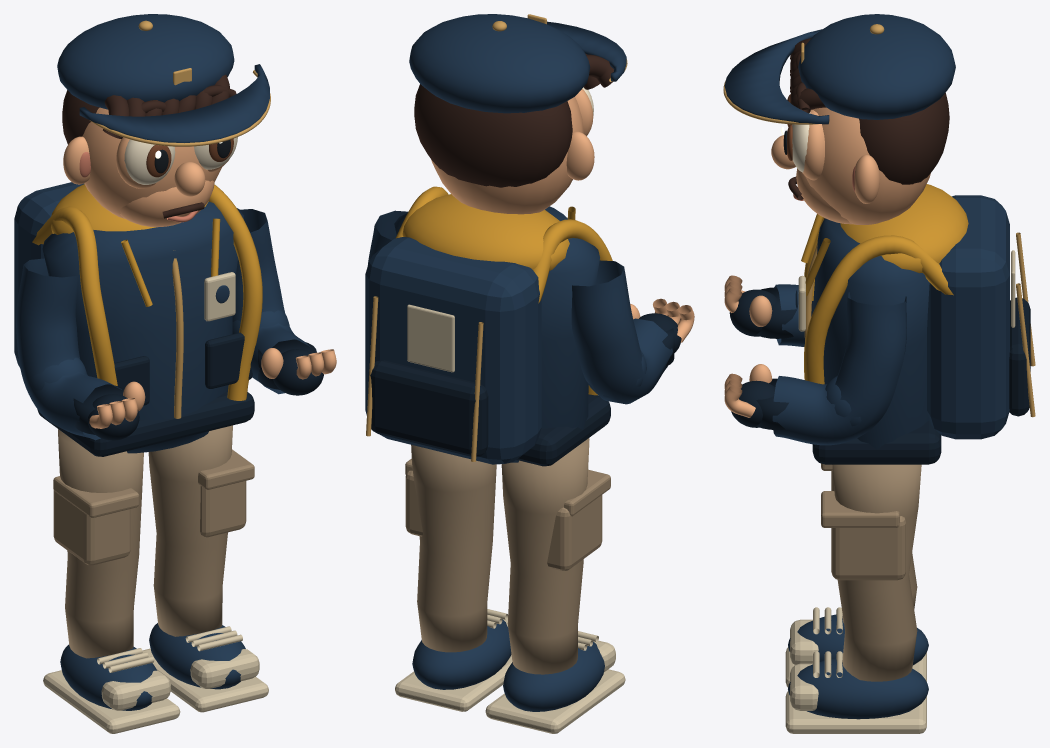
File: nico.glb
3 views of the same model, side by side, from view 1: azimuth 30°, elevation 25°; view 2: azimuth 150°, elevation 25°; view 3: azimuth 270°, elevation 25° (orthographic). The views are drawn at different scales.
Visible parts, largest first — view 1: fitted jacket, cargo trouser.001, cap dome, cargo trouser, jacket sleeve, curved cap visor, hem cuff, backpack strap, face, cargo pocket, backpack strap.001, jacket sleeve.001 (+29 smaller); view 2: backpack, cargo trouser.001, cap dome, cargo trouser, hair back, jacket sleeve, backpack pocket, fitted jacket, hood lining, face, shoe, shoe.001 (+15 smaller); view 3: backpack, cap dome, cargo trouser.001, jacket sleeve.001, fitted jacket, face, hair back, shoe.001, hood lining, backpack strap.001, curved cap visor, cargo pocket.001 (+21 smaller).
Part boxes in pixels (box(x1,y1,x2,y2)): fitted jacket: box(42, 201, 243, 453); cargo trouser.001: box(148, 425, 232, 636); cap dome: box(57, 14, 234, 109); cargo trouser: box(58, 429, 143, 658); jacket sleeve: box(16, 258, 121, 440); curved cap visor: box(79, 64, 269, 142); hem cuff: box(37, 389, 254, 456); backpack strap: box(32, 206, 117, 385); face: box(82, 107, 221, 218); cargo pocket: box(53, 490, 130, 565); backpack strap.001: box(208, 184, 262, 400); jacket sleeve.001: box(232, 209, 310, 394); backpack: box(365, 237, 541, 464); cargo trouser.001: box(411, 444, 496, 652); cap dome: box(409, 14, 590, 113); cargo trouser: box(501, 438, 589, 674); hair back: box(414, 84, 572, 187); jacket sleeve: box(571, 260, 672, 404); backpack pocket: box(368, 360, 488, 456); fitted jacket: box(394, 206, 599, 462); hood lining: box(402, 194, 569, 270); face: box(431, 97, 583, 214); shoe: box(503, 641, 604, 711); shoe.001: box(412, 619, 511, 689); backpack: box(927, 195, 1009, 439); cap dome: box(798, 14, 955, 119); cargo trouser.001: box(832, 464, 921, 681); jacket sleeve.001: box(772, 292, 906, 445); fitted jacket: box(812, 218, 929, 449); face: box(802, 107, 930, 224); hair back: box(859, 93, 949, 184); shoe.001: box(788, 658, 928, 719); hood lining: box(840, 184, 968, 273); backpack strap.001: box(804, 235, 953, 384); curved cap visor: box(724, 29, 829, 124); cargo pocket.001: box(831, 516, 905, 580).
Size of the model in its own units: 0.7246 by 1.78 by 0.7517.
